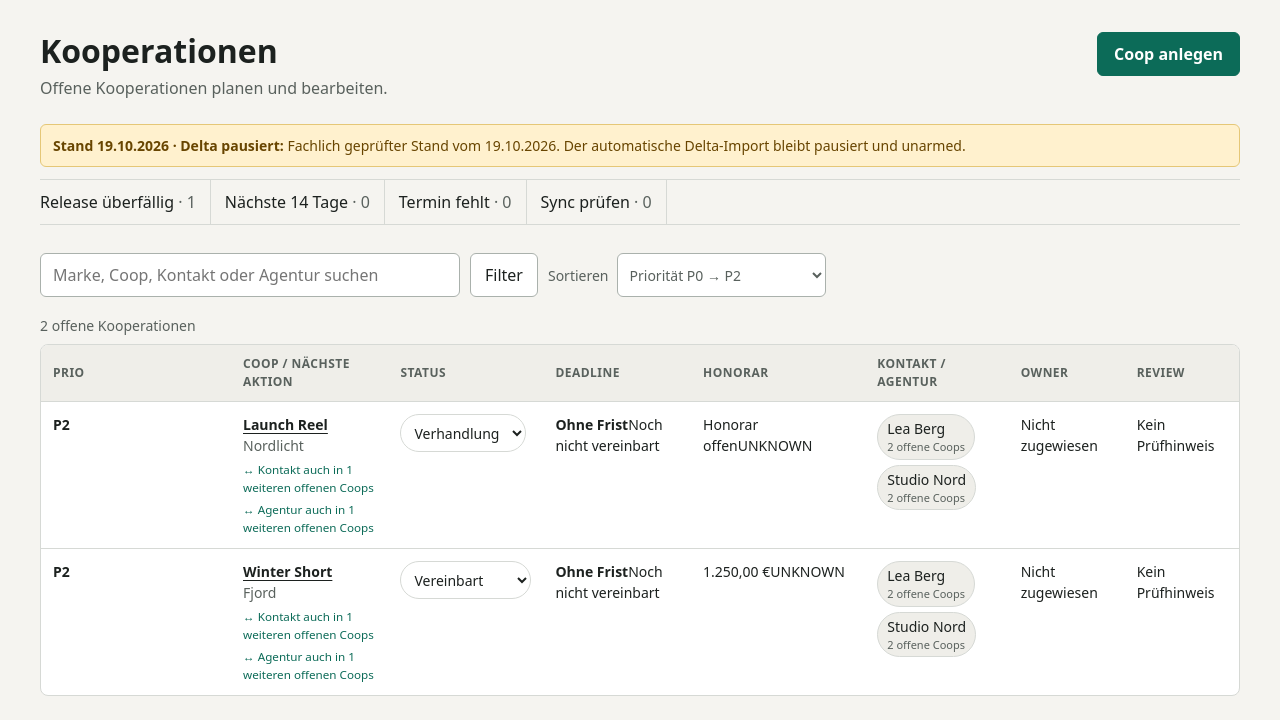
CoopWorkspace › filtert bei Klick auf eine wiederkehrende Agentur und hält den Zustand in der URL
Click the button with aria-label "Agentur: Studio Nord" at (927, 488), box x1=877 y1=465 x2=976 y2=510
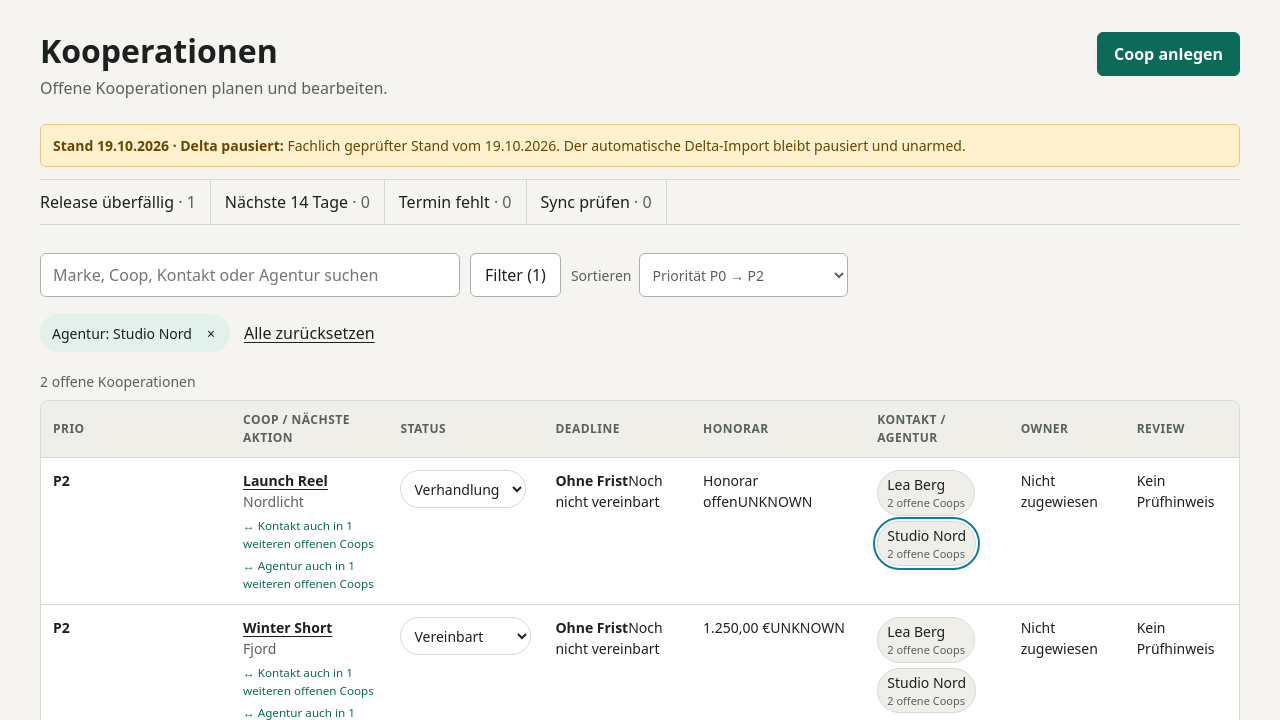
Expected: the text "Agentur: Studio Nord" is shown, x1=52 y1=323 x2=192 y2=344
